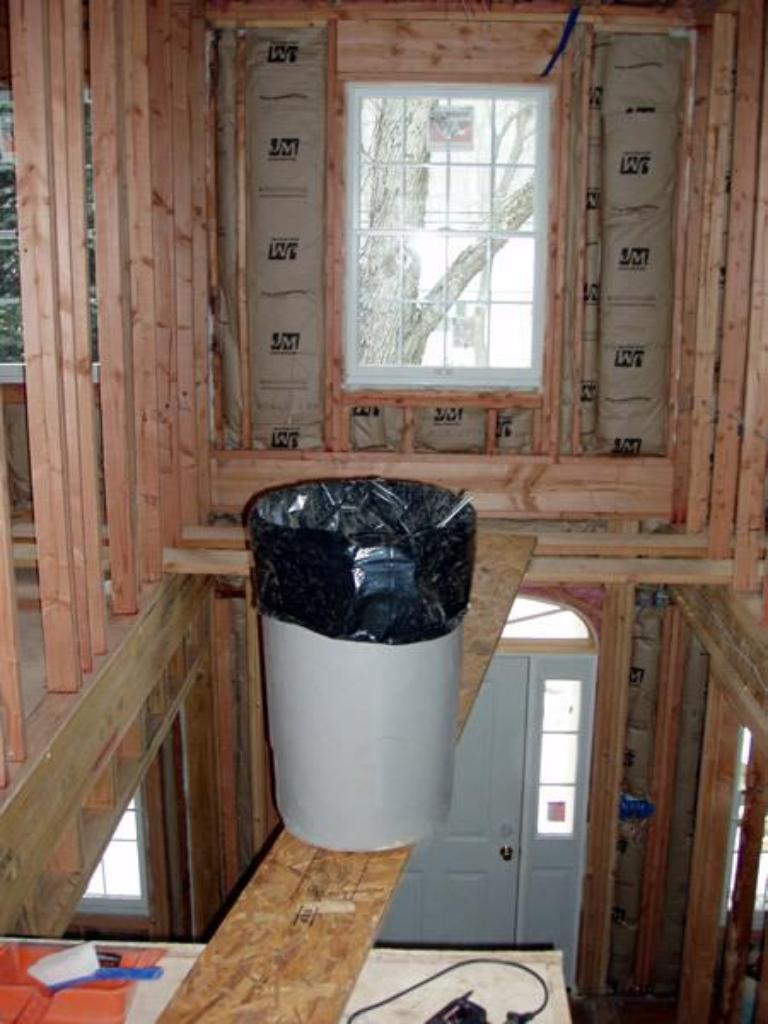dustbin: (243, 473, 473, 853)
